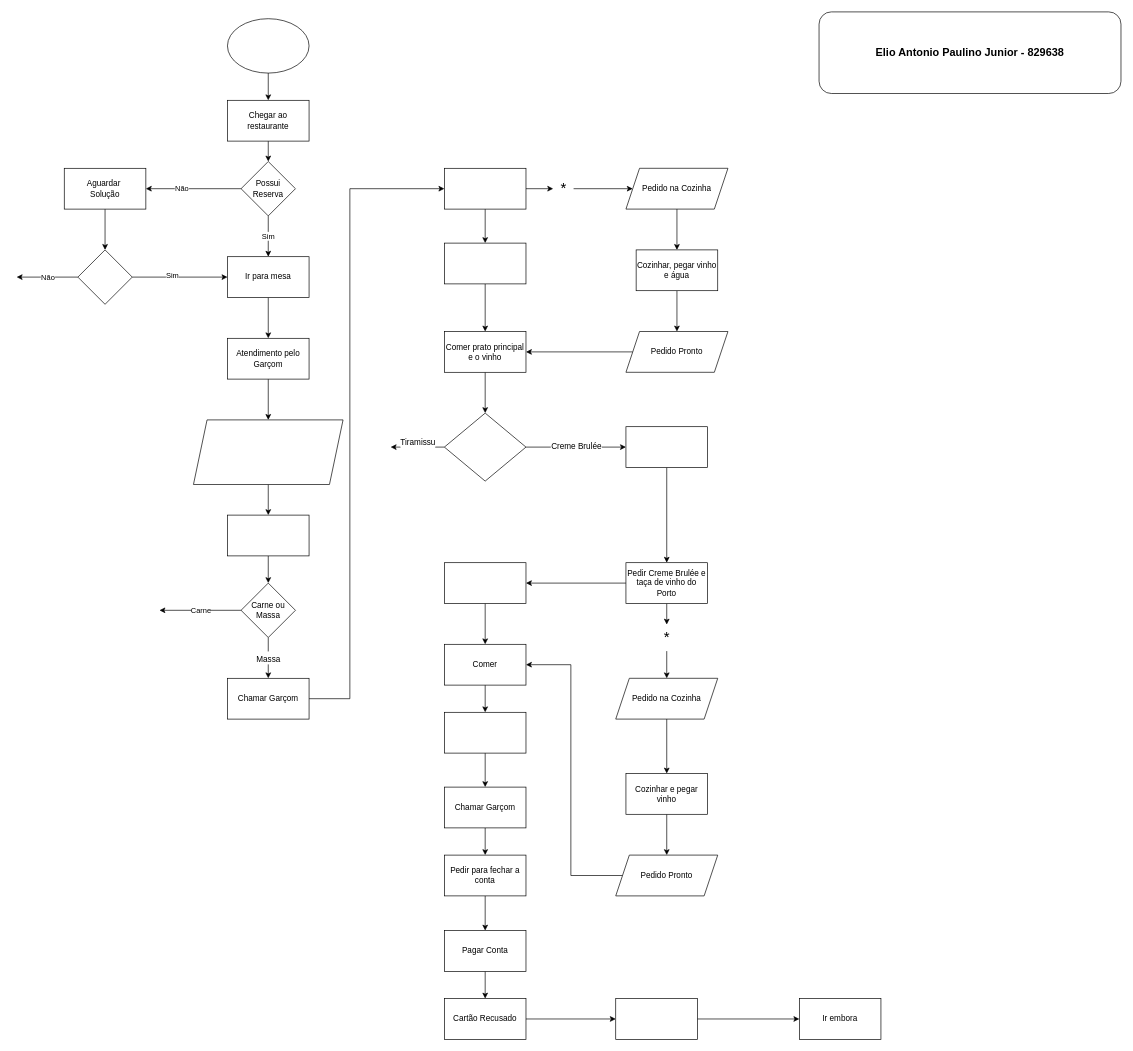
This 1133x1051 diagram has some shape labels left out. The shapes that lost their labels are listed below. From the top down, each one's box as (x1, y1, x2, y2) in pixels, then its label:
(227, 18, 309, 73): Comemoração
(444, 168, 526, 209): Pedido de massa, vinho tinto, e uma água com gás
(77, 249, 132, 304): Mesa disponível
(444, 242, 526, 284): Bater papo e apreciar a música
(193, 419, 343, 485): Orientação do esquema da casa e indicação de vinhos
(444, 412, 526, 481): Pedir sobremessa
(625, 426, 708, 468): Chamar Garçom para fazer pedido
(227, 514, 309, 556): Conversar para decidir o que vai pedir
(444, 562, 526, 604): Aguardar
(444, 712, 526, 753): Conversar e concluir que querem ir embora
(615, 998, 697, 1039): Tentar o pagamento novamente
